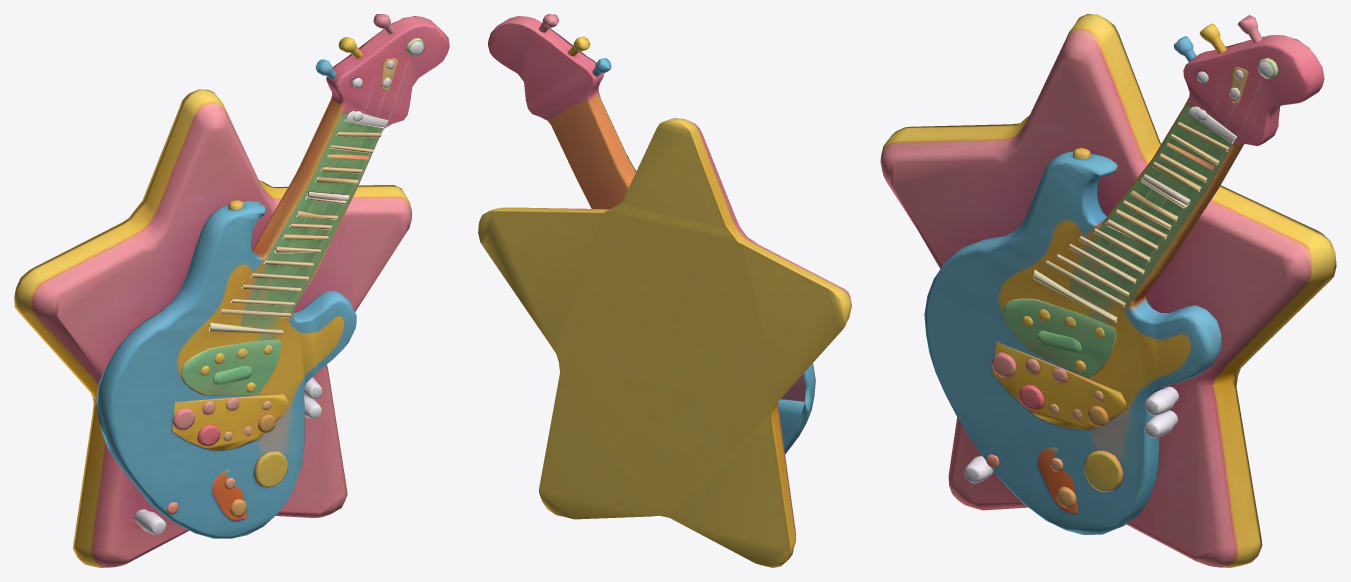
The model's file is bar-guitar-wall.glb.
3 views of the same model, side by side, from view 1: azimuth 30°, elevation 25°; view 2: azimuth 150°, elevation 25°; view 3: azimuth 330°, elevation 25° (orthographic). The views are drawn at different scales.
Visible parts, largest first — view 1: geometry_0; view 2: geometry_0; view 3: geometry_0.
Part boxes in pixels (x1,y1,x2,y2): geometry_0: (14, 14, 449, 567); geometry_0: (478, 14, 851, 567); geometry_0: (880, 14, 1336, 567).
Bounding box in the file's own units: 0.8383 × 1 × 0.1357.
1 material, 1 textured.
